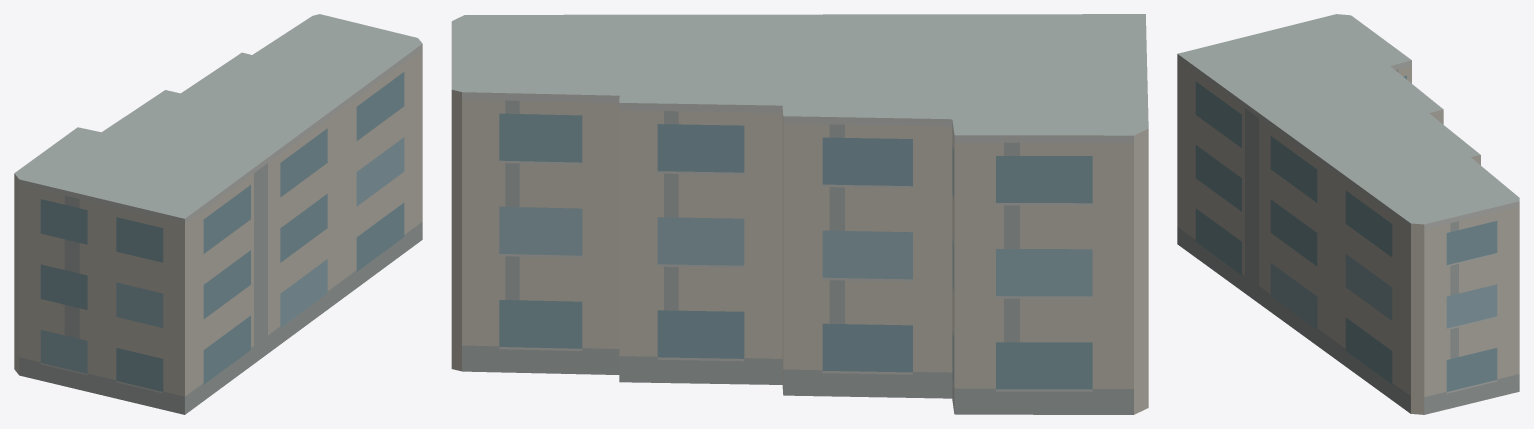
The model's file is survey-upis-32587345.glb.
The picture shows the model from 3 angles, left to right: view 1: azimuth 30°, elevation 25°; view 2: azimuth 150°, elevation 25°; view 3: azimuth 270°, elevation 25°; orthographic projection. The views are drawn at different scales.
Visible parts, largest first — view 1: survey-upis-32587345.tmp; view 2: survey-upis-32587345.tmp; view 3: survey-upis-32587345.tmp.
Part boxes in pixels (bbox=[...]): survey-upis-32587345.tmp: bbox=[14, 14, 422, 414]; survey-upis-32587345.tmp: bbox=[451, 14, 1148, 414]; survey-upis-32587345.tmp: bbox=[1177, 14, 1519, 414].
Bounding box in the file's own units: 21.69 × 9.15 × 14.91.
